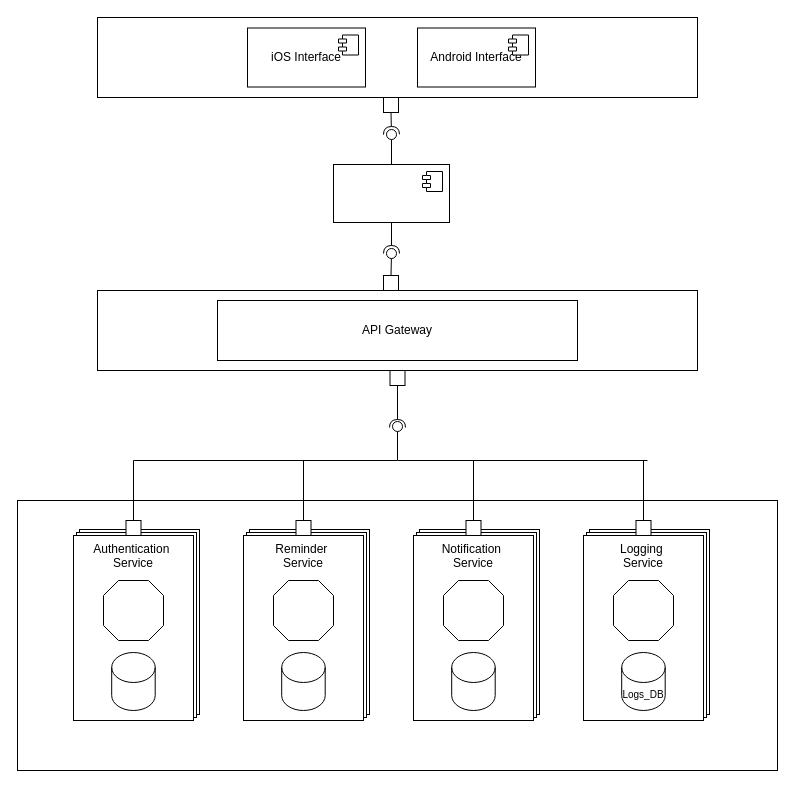
The diagram is 795 pixels wide and 788 high, and some of its shapes have lost their labels. The shapes that lost their labels are listed below. From the top down, each one's centre as x and y in pixels, then its label:
At point 391,193: "Load Balancer".
At point 133,681: "User_DB".
At point 303,681: "Reminder _DB".
At point 473,681: "Notification _DB".
